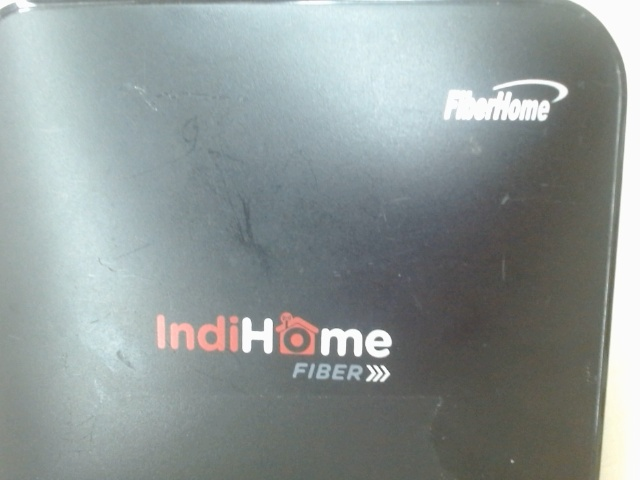AF_IndiHome: (143, 302, 397, 396)
